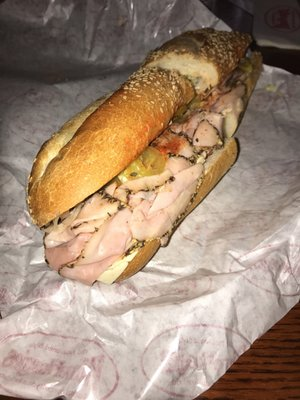soup: (25, 22, 264, 288)
